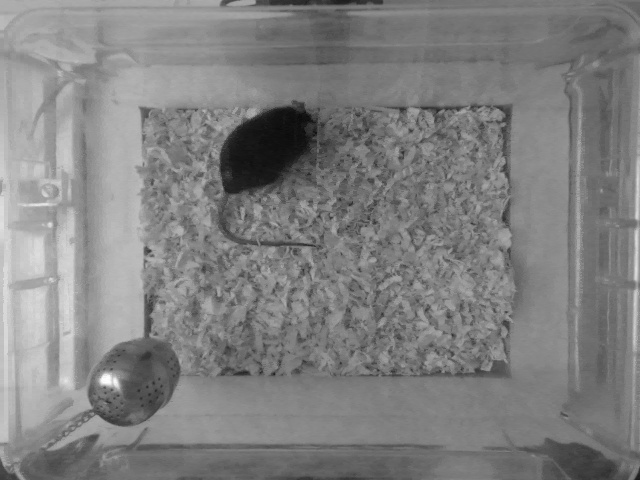mice: (217, 100, 323, 248)
